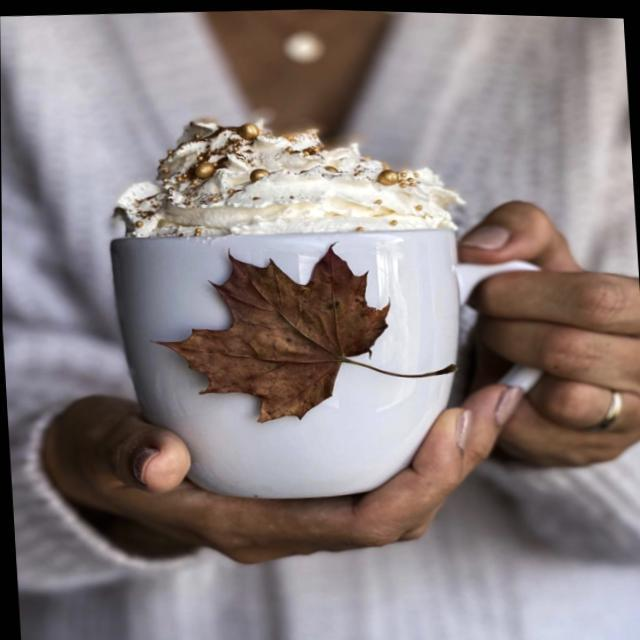cup: (58, 220, 524, 512)
